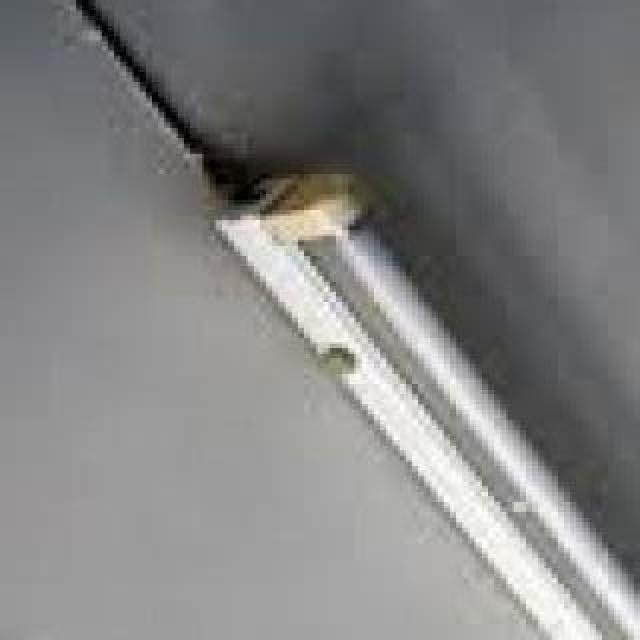fluorescent tube: (180, 148, 640, 640)
